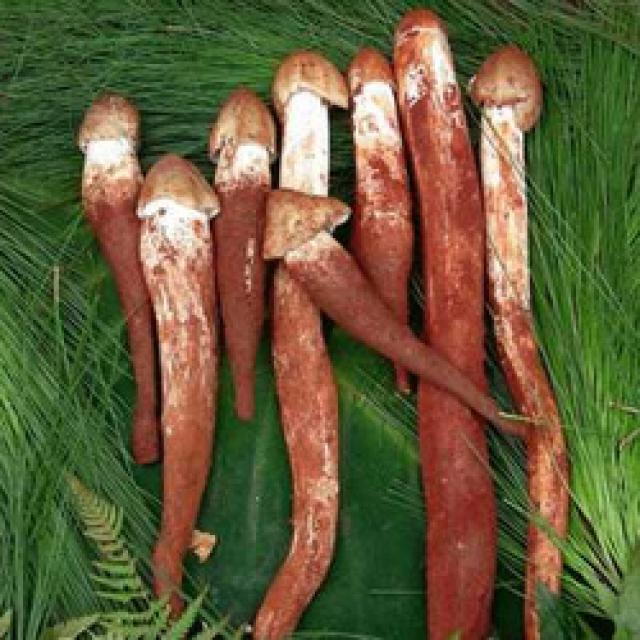Collybia albuminosa: (269, 188, 526, 447), (397, 12, 494, 637), (471, 43, 569, 640), (271, 51, 343, 640), (136, 150, 217, 621), (75, 91, 162, 456), (346, 43, 414, 381), (215, 89, 274, 404)
